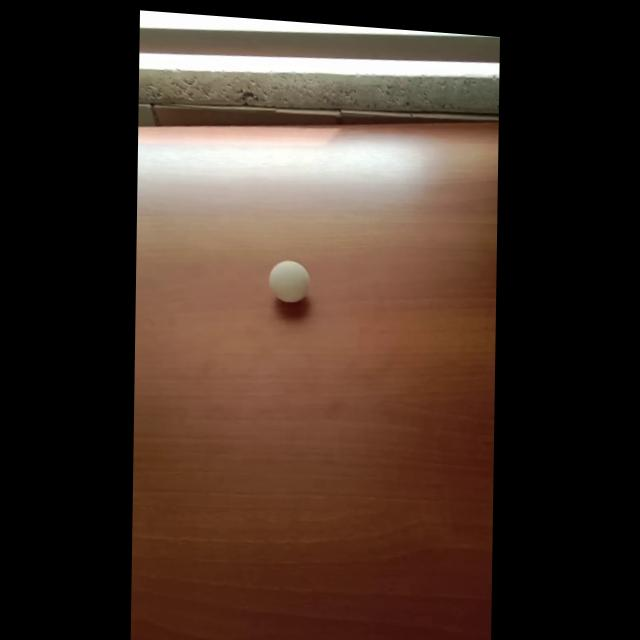white ball: (268, 259, 310, 305)
